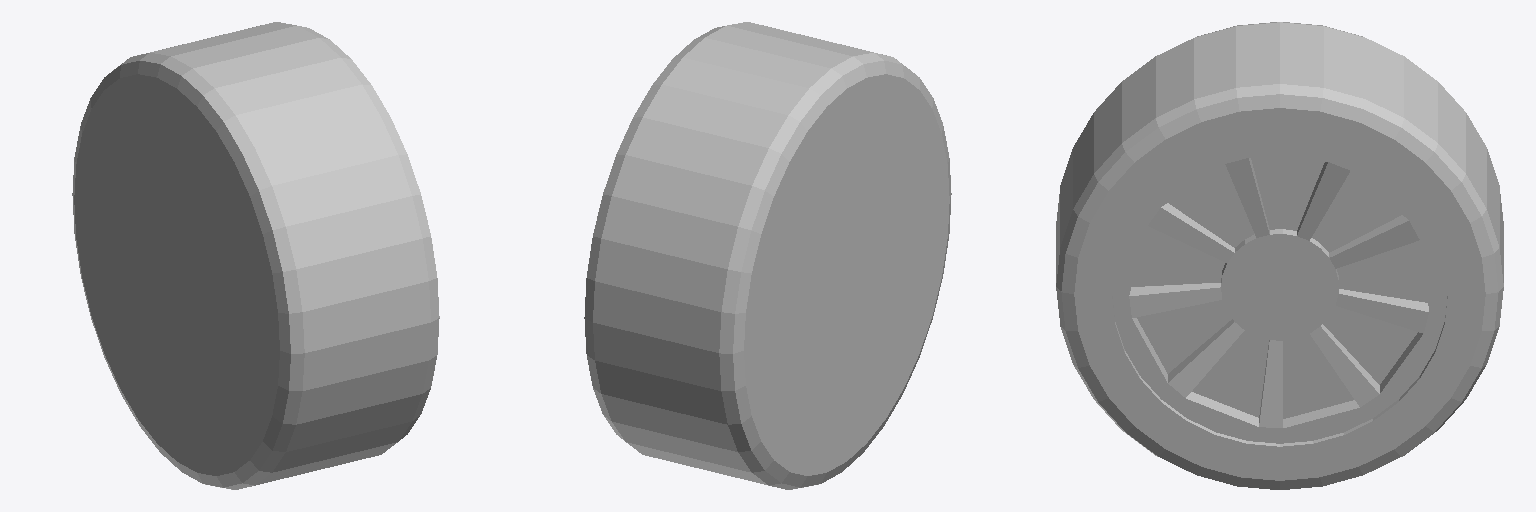
Rendered from rear_right_tire.obj.
3 renders of one model, left to right at view 1: azimuth 30°, elevation 25°; view 2: azimuth 150°, elevation 25°; view 3: azimuth 270°, elevation 25°, orthographic.
Visible parts, largest first — view 1: Rear_right_tire; view 2: Rear_right_tire; view 3: Rear_right_tire.
Boxes of the visible parts, box(x1,y1,x2,y2) form: Rear_right_tire: box(72, 22, 439, 489); Rear_right_tire: box(584, 22, 951, 489); Rear_right_tire: box(1056, 22, 1503, 489).
Size of the model in its own units: 0.269 by 0.6616 by 0.6616.